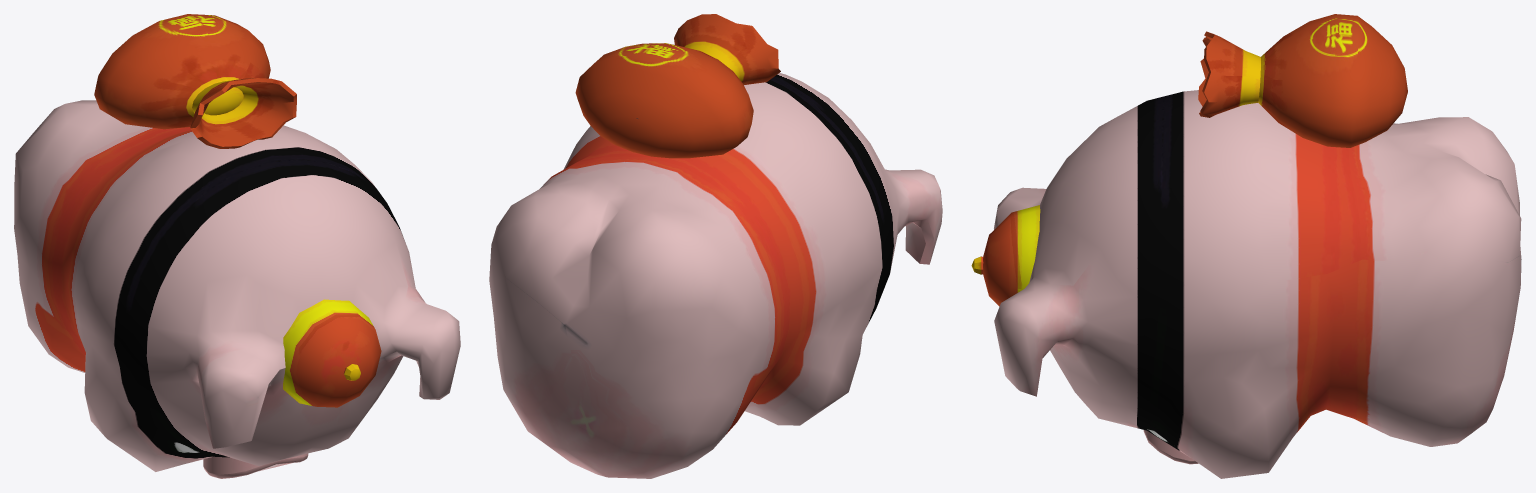
The model's file is pig2.glb.
3 renders of one model, left to right at view 1: azimuth 30°, elevation 25°; view 2: azimuth 150°, elevation 25°; view 3: azimuth 270°, elevation 25°, orthographic. The views are drawn at different scales.
Visible parts, largest first — view 1: pig; view 2: pig; view 3: pig.
Boxes of the visible parts, left/top/right/bottom form: pig: left=14, top=14, right=460, bottom=478; pig: left=489, top=14, right=942, bottom=478; pig: left=971, top=14, right=1521, bottom=478.
Size of the model in its own units: 1.36 by 1.74 by 2.09.
Materials: 1 (1 with a texture image).
